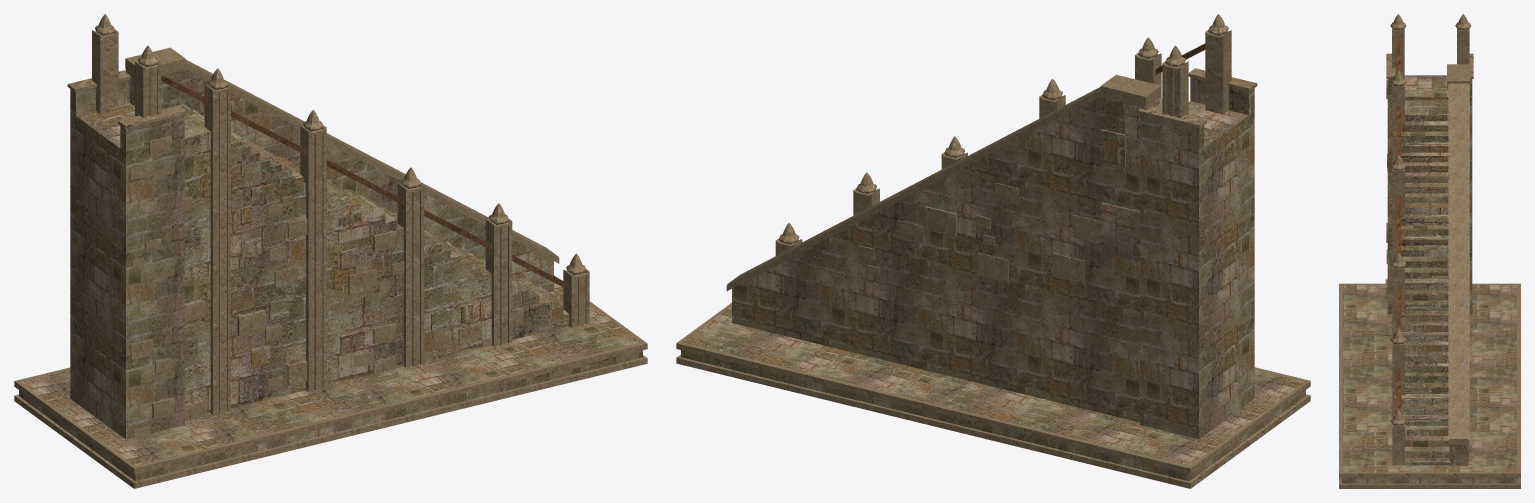
File: Stairs.obj
3 renders of one model, left to right at view 1: azimuth 30°, elevation 25°; view 2: azimuth 150°, elevation 25°; view 3: azimuth 270°, elevation 25°, orthographic. The views are drawn at different scales.
Parts seen in each view (by area): view 1: Stairs structure stair1, Stairs stair1 detail pCube336, Stairs stair1 detail febce_stairs, floor Stairs, Stairs stair1 pCube121 detail, Stairs stair1 detail febce_stairs2, Stairs stair1 detail febce_stairs1, Stairs stair1 detail pCube184, Stairs stair1 detail pCube334, Stairs stair1 detail pCube332, Stairs stair1 detail pCube333; view 2: Stairs stair1 detail febce_stairs, Stairs stair1 detail pCube336, floor Stairs, Stairs stair1 detail febce_stairs1, Stairs stair1 detail febce_stairs2, Stairs stair1 detail pCube182, Stairs stair1 detail pCube187, Stairs stair1 detail pCube185; view 3: floor Stairs, Stairs structure stair1, Stairs stair1 detail febce_stairs, Stairs stair1 detail pCube336, Stairs stair1 pCube121 detail, Stairs stair1 detail febce_stairs2, Stairs stair1 detail febce_stairs1.
Part boxes in pixels (x1,y1,x2,y2): Stairs structure stair1: (161,103,569,414); Stairs stair1 detail pCube336: (67,70,186,439); Stairs stair1 detail febce_stairs: (125,47,589,415); floor Stairs: (14,275,647,488); Stairs stair1 pCube121 detail: (161,75,569,289); Stairs stair1 detail febce_stairs2: (92,14,118,114); Stairs stair1 detail febce_stairs1: (135,45,161,117); Stairs stair1 detail pCube184: (237,269,376,336); Stairs stair1 detail pCube334: (184,266,297,321); Stairs stair1 detail pCube332: (184,361,307,421); Stairs stair1 detail pCube333: (373,324,481,373); Stairs stair1 detail febce_stairs: (726,37,1161,422); Stairs stair1 detail pCube336: (1137,68,1257,439); floor Stairs: (676,303,1310,488); Stairs stair1 detail febce_stairs1: (1205,14,1231,114); Stairs stair1 detail febce_stairs2: (1162,45,1188,118); Stairs stair1 detail pCube182: (924,206,1084,283); Stairs stair1 detail pCube187: (899,220,1008,282); Stairs stair1 detail pCube185: (995,182,1100,244); floor Stairs: (1339,283,1520,488); Stairs structure stair1: (1394,100,1449,465); Stairs stair1 detail febce_stairs: (1390,64,1470,465); Stairs stair1 detail pCube336: (1386,53,1473,314); Stairs stair1 pCube121 detail: (1395,40,1401,412); Stairs stair1 detail febce_stairs2: (1455,14,1471,64); Stairs stair1 detail febce_stairs1: (1390,14,1406,78).
Size of the model in its own units: 11.6 by 8.68 by 4.69.
